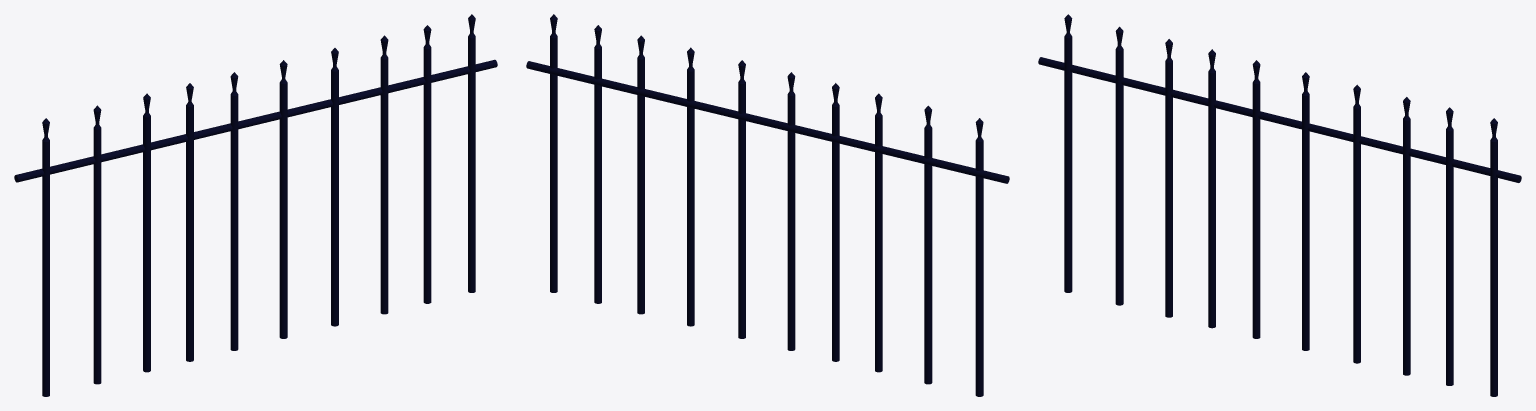
Rendered from Metal Fence.fbx.
The picture shows the model from 3 angles, left to right: view 1: azimuth 30°, elevation 25°; view 2: azimuth 150°, elevation 25°; view 3: azimuth 330°, elevation 25°; orthographic projection.
Visible parts, largest first — view 1: Cylinder.011, Cylinder.007, Cylinder.003, Cylinder.008, Cylinder.005, Cylinder.010, Cylinder.002, Cylinder.004, Cylinder.001, Cylinder.006, Cylinder.009; view 2: Cylinder.011, Cylinder.003, Cylinder.004, Cylinder.005, Cylinder.007, Cylinder.001, Cylinder.010, Cylinder.002, Cylinder.009, Cylinder.006, Cylinder.008; view 3: Cylinder.011, Cylinder.003, Cylinder.005, Cylinder.004, Cylinder.001, Cylinder.002, Cylinder.006, Cylinder.007, Cylinder.010, Cylinder.009, Cylinder.008.
Boxes of the visible parts, x1,y1,x2,y2 form: Cylinder.011: [14, 59, 497, 182]; Cylinder.007: [380, 35, 388, 314]; Cylinder.003: [93, 105, 101, 384]; Cylinder.008: [423, 25, 431, 303]; Cylinder.005: [230, 72, 238, 350]; Cylinder.010: [279, 60, 287, 338]; Cylinder.002: [186, 83, 193, 361]; Cylinder.004: [42, 118, 49, 396]; Cylinder.001: [143, 93, 150, 372]; Cylinder.006: [468, 14, 475, 292]; Cylinder.009: [331, 48, 338, 326]; Cylinder.011: [526, 61, 1009, 183]; Cylinder.003: [924, 105, 932, 384]; Cylinder.004: [975, 118, 983, 396]; Cylinder.005: [787, 72, 795, 350]; Cylinder.007: [637, 35, 644, 314]; Cylinder.001: [875, 93, 882, 372]; Cylinder.010: [738, 60, 745, 338]; Cylinder.002: [832, 83, 839, 361]; Cylinder.009: [687, 47, 694, 326]; Cylinder.006: [550, 14, 557, 292]; Cylinder.008: [594, 25, 601, 303]; Cylinder.011: [1038, 57, 1521, 182]; Cylinder.003: [1115, 26, 1123, 305]; Cylinder.005: [1252, 60, 1260, 338]; Cylinder.004: [1064, 14, 1072, 292]; Cylinder.001: [1165, 39, 1172, 317]; Cylinder.002: [1208, 49, 1215, 328]; Cylinder.006: [1490, 118, 1497, 396]; Cylinder.007: [1403, 97, 1410, 375]; Cylinder.010: [1302, 72, 1309, 350]; Cylinder.009: [1353, 84, 1360, 363]; Cylinder.008: [1446, 107, 1453, 385].
Bounding box in the file's own units: 843 × 466 × 14.57.
